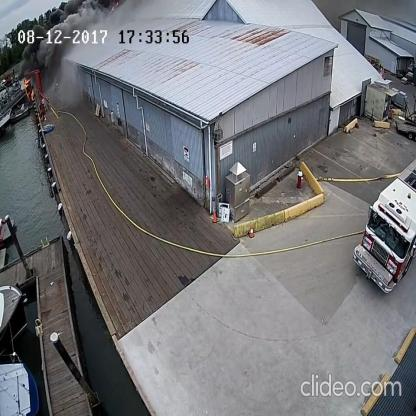fire: (22, 77, 36, 103)
